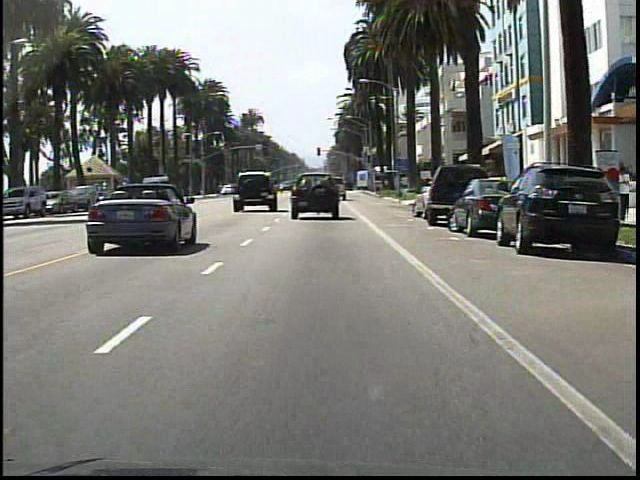person: (615, 162, 632, 222)
